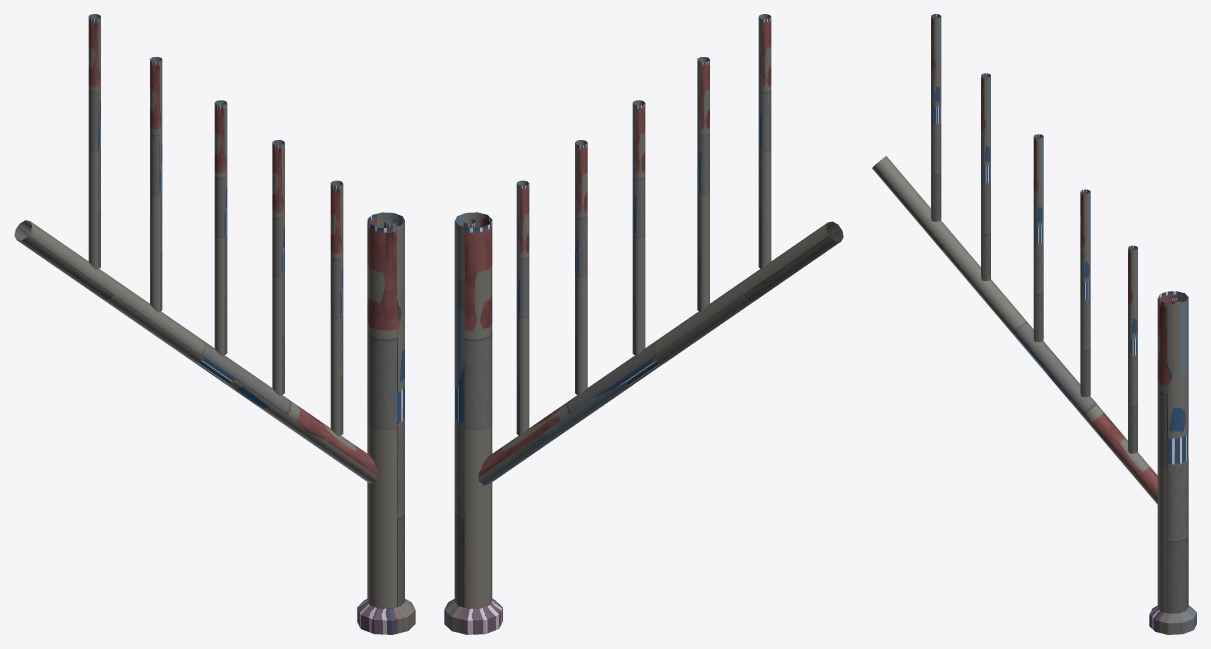
File: stair_stick_02.fbx
The picture shows the model from 3 angles, left to right: view 1: azimuth 30°, elevation 25°; view 2: azimuth 150°, elevation 25°; view 3: azimuth 330°, elevation 25°; orthographic projection. The views are drawn at different scales.
Visible parts, largest first — view 1: Cylinder021; view 2: Cylinder021; view 3: Cylinder021.
Boxes of the visible parts, x1,y1,x2,y2 form: Cylinder021: [14, 14, 415, 634]; Cylinder021: [444, 14, 843, 634]; Cylinder021: [872, 14, 1196, 634].
Size of the model in its own units: 103 by 169 by 12.69.
